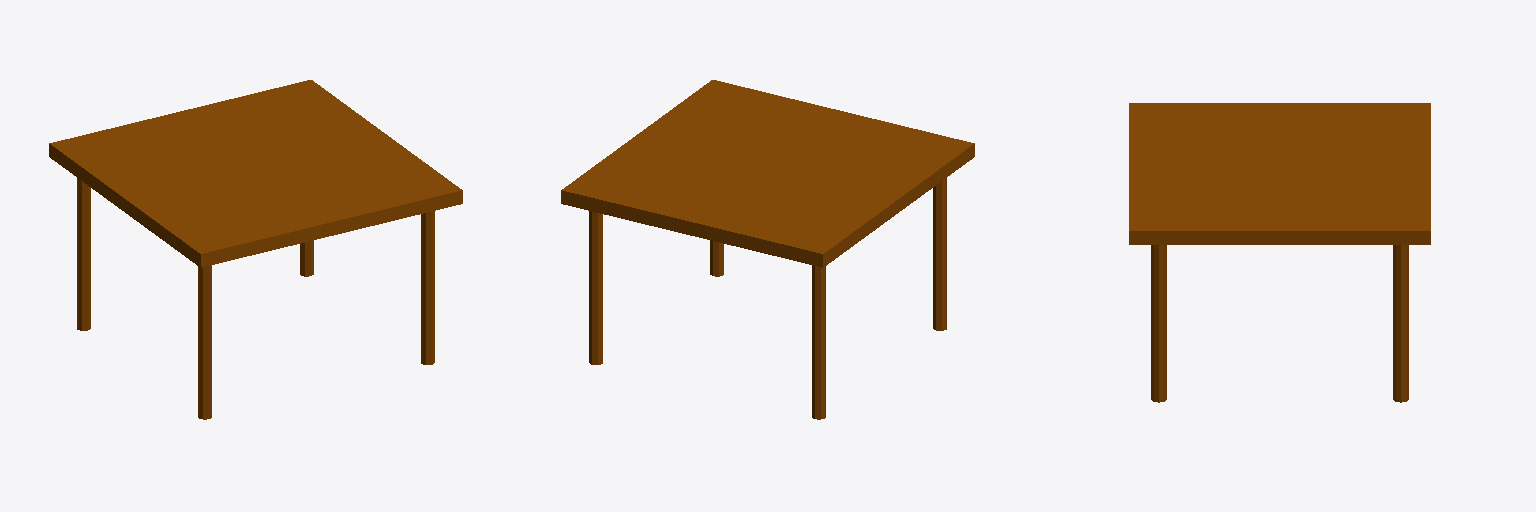
The picture shows the model from 3 angles: view 1: azimuth 30°, elevation 25°; view 2: azimuth 150°, elevation 25°; view 3: azimuth 270°, elevation 25°; orthographic projection.
Parts seen in each view (by area): view 1: Plateau_1, Pied_1_3, Pied_2, Pied_2_4; view 2: Plateau_1, Pied_2_4, Pied_3_5, Pied_1_3; view 3: Plateau_1, Pied_2, Pied_3_5.
Part boxes in pixels (x1,y1,x2,y2): Plateau_1: (49, 80, 462, 267); Pied_1_3: (198, 265, 211, 419); Pied_2: (421, 211, 434, 364); Pied_2_4: (77, 178, 90, 330); Plateau_1: (561, 80, 974, 267); Pied_2_4: (812, 265, 825, 419); Pied_3_5: (589, 211, 602, 364); Pied_1_3: (933, 178, 946, 330); Plateau_1: (1129, 103, 1430, 244); Pied_2: (1151, 245, 1166, 402); Pied_3_5: (1393, 245, 1408, 402).
Size of the model in its own units: 2 by 1.3 by 2.